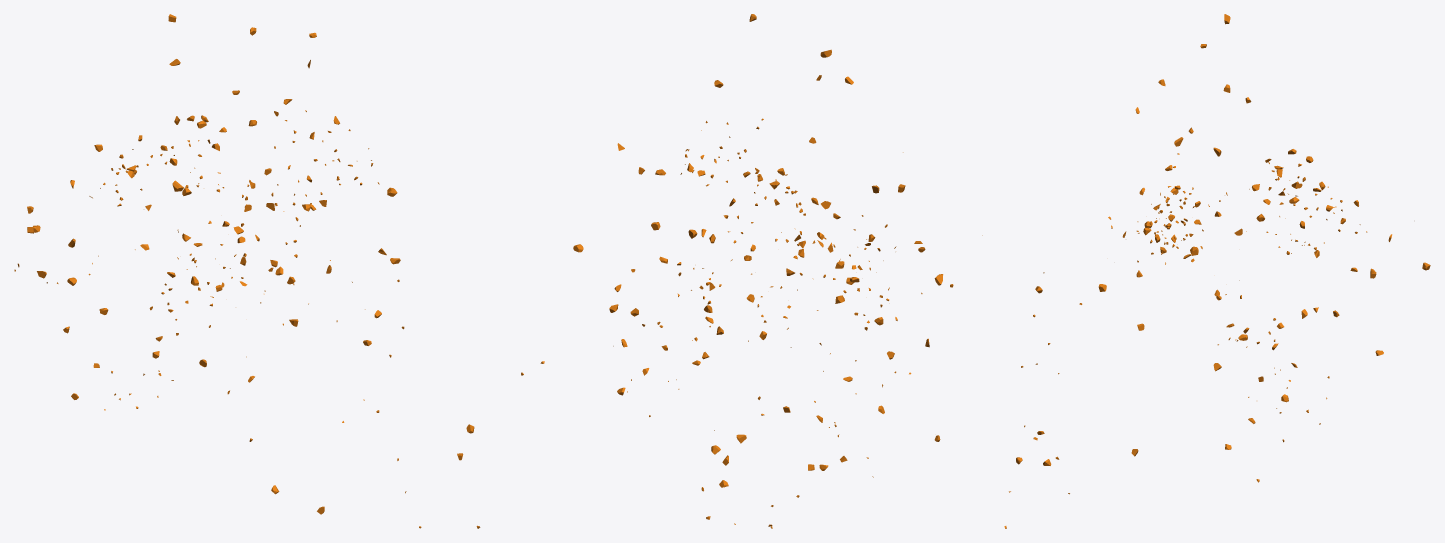
Rendered from Explode_Cube.f0039.glb.
The picture shows the model from 3 angles, left to right: view 1: azimuth 30°, elevation 25°; view 2: azimuth 150°, elevation 25°; view 3: azimuth 270°, elevation 25°; orthographic projection. The views are drawn at different scales.
Bounding box in the file's own units: 21.12 × 23.8 × 22.45.
